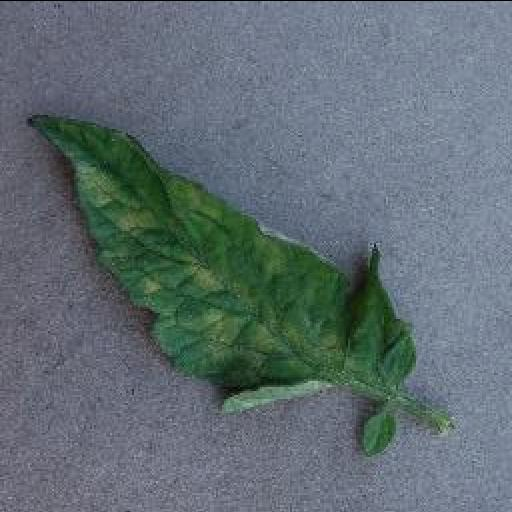disease_tomato: (26, 109, 418, 414)
